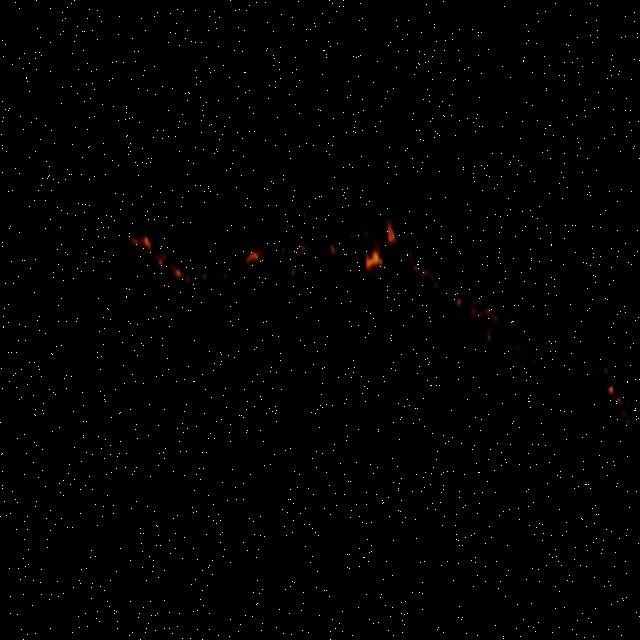Fire: (114, 182, 522, 438)
